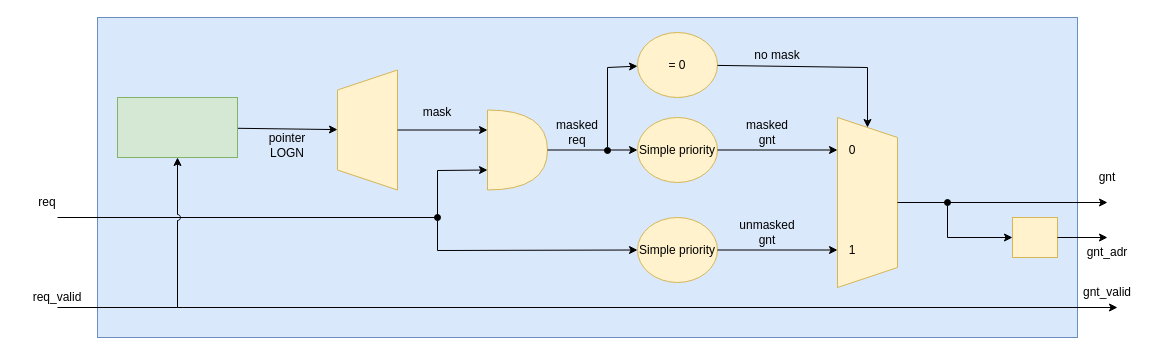
The diagram is 1154 pixels wide and 355 high, and some of its shapes have lost their labels. Here are the shapes that lost their labels. From the top down, the box of each, then its label:
(116, 96, 238, 158): Pointer Update
(1012, 216, 1058, 258): Encoder
